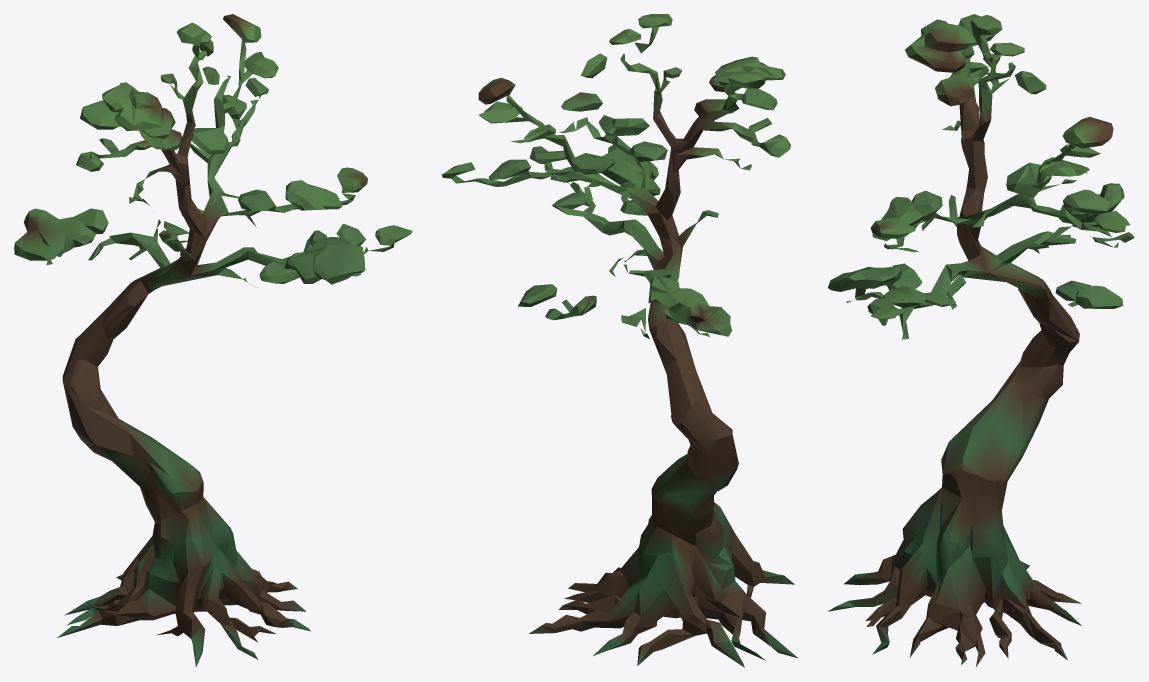
The picture shows the model from 3 angles, left to right: view 1: azimuth 30°, elevation 25°; view 2: azimuth 150°, elevation 25°; view 3: azimuth 270°, elevation 25°; orthographic projection. The views are drawn at different scales.
Parts seen in each view (by area): view 1: output_unwrapped; view 2: output_unwrapped; view 3: output_unwrapped.
Part boxes in pixels (x1=…): output_unwrapped: x1=14, y1=14, x2=412, y2=667; output_unwrapped: x1=441, y1=14, x2=797, y2=667; output_unwrapped: x1=828, y1=14, x2=1134, y2=666.
Bounding box in the file's own units: 1.04 × 1.89 × 0.8734.
